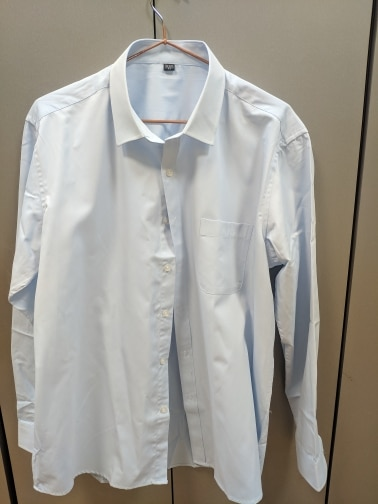shirts: (11, 35, 320, 494)
